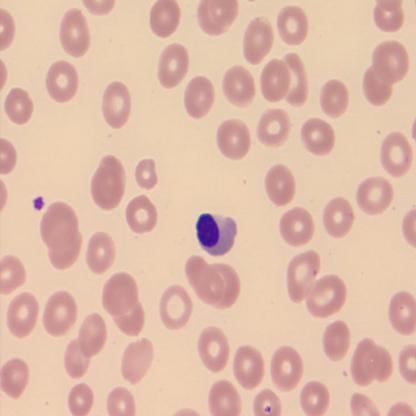NRC: (193, 209, 238, 259)
